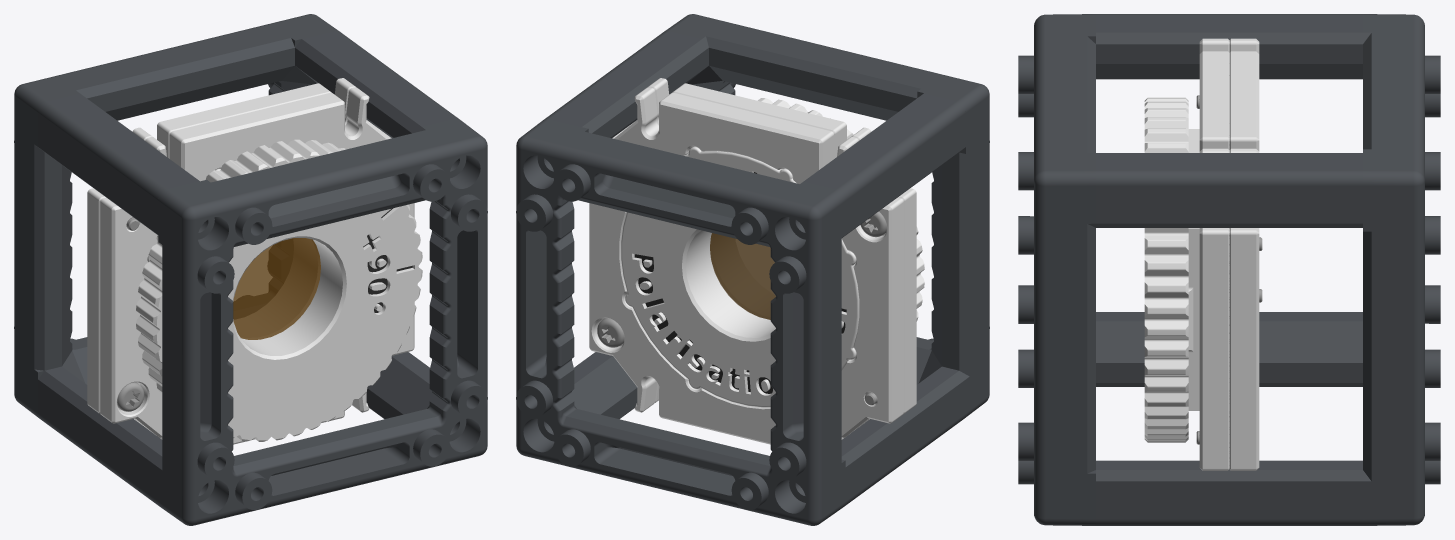
Rendered from ASS_-_2017_-_CUBPOLFIL_-_V04.glb.
3 renders of one model, left to right at view 1: azimuth 30°, elevation 25°; view 2: azimuth 150°, elevation 25°; view 3: azimuth 270°, elevation 25°, orthographic. The views are drawn at different scales.
Visible parts, largest first — view 1: PRT - 1003 - CUBHLF111 - V04:2, PRT - 1003 - CUBHLF111 - V04:1, PRT - 2114 - ADJWHLPOLFIL:1, PRT - 2100 - MASINS - V04:1, PRT - 2115 - POLFIL025020100:1, PRT - 2100 - MASINS - V04:2, PRT - 2113 - MASINSPOL:1, TP lens head screw with TORX - 2.5 x 6 - St - A2K:7; view 2: PRT - 1003 - CUBHLF111 - V04:1, PRT - 1003 - CUBHLF111 - V04:2, PRT - 2100 - MASINS - V04:2, PRT - 2113 - MASINSPOL:1, PRT - 2100 - MASINS - V04:1, PRT - 2115 - POLFIL025020100:1, PRT - 2114 - ADJWHLPOLFIL:1, TP lens head screw with TORX - 2.5 x 6 - St - A2K:6; view 3: PRT - 1003 - CUBHLF111 - V04:1, PRT - 1003 - CUBHLF111 - V04:2, PRT - 2114 - ADJWHLPOLFIL:1, PRT - 2100 - MASINS - V04:1, PRT - 2100 - MASINS - V04:2, PRT - 2113 - MASINSPOL:1.
Boxes of the visible parts, left/top/right/bottom form: PRT - 1003 - CUBHLF111 - V04:2: left=38, top=31, right=487, bottom=525; PRT - 1003 - CUBHLF111 - V04:1: left=14, top=14, right=455, bottom=429; PRT - 2114 - ADJWHLPOLFIL:1: left=136, top=139, right=422, bottom=441; PRT - 2100 - MASINS - V04:1: left=100, top=87, right=414, bottom=444; PRT - 2115 - POLFIL025020100:1: left=233, top=238, right=320, bottom=339; PRT - 2100 - MASINS - V04:2: left=87, top=78, right=380, bottom=427; PRT - 2113 - MASINSPOL:1: left=147, top=168, right=320, bottom=339; TP lens head screw with TORX - 2.5 x 6 - St - A2K:7: left=117, top=382, right=144, bottom=411; PRT - 1003 - CUBHLF111 - V04:1: left=516, top=93, right=965, bottom=525; PRT - 1003 - CUBHLF111 - V04:2: left=544, top=14, right=989, bottom=506; PRT - 2100 - MASINS - V04:2: left=589, top=87, right=903, bottom=444; PRT - 2113 - MASINSPOL:1: left=621, top=146, right=859, bottom=407; PRT - 2100 - MASINS - V04:1: left=623, top=78, right=916, bottom=427; PRT - 2115 - POLFIL025020100:1: left=710, top=233, right=775, bottom=319; PRT - 2114 - ADJWHLPOLFIL:1: left=710, top=98, right=924, bottom=321; TP lens head screw with TORX - 2.5 x 6 - St - A2K:6: left=597, top=318, right=624, bottom=347; PRT - 1003 - CUBHLF111 - V04:1: left=1096, top=14, right=1440, bottom=525; PRT - 1003 - CUBHLF111 - V04:2: left=1018, top=14, right=1362, bottom=525; PRT - 2114 - ADJWHLPOLFIL:1: left=1144, top=97, right=1188, bottom=442; PRT - 2100 - MASINS - V04:1: left=1199, top=38, right=1229, bottom=470; PRT - 2100 - MASINS - V04:2: left=1229, top=38, right=1259, bottom=470; PRT - 2113 - MASINSPOL:1: left=1188, top=129, right=1199, bottom=410.
Bounding box in the file's own units: 49.8 × 49.8 × 53.8.
